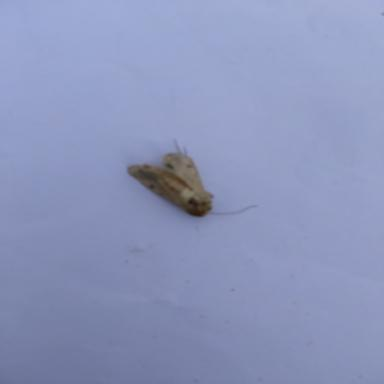abw: (125, 137, 261, 220)
